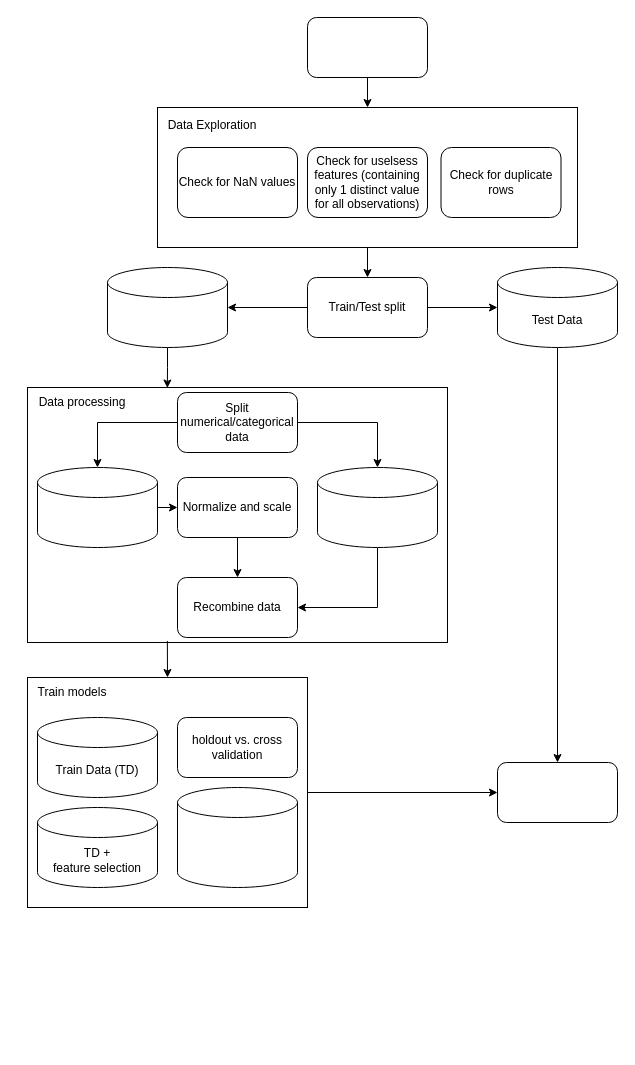
Some shapes in this 635 by 1065 pixel diagram are drawn without their labels. The shapes that lost their labels are listed below. From the top down, each one's box as (x1, y1, x2, y2) in pixels, then its label:
(306, 16, 428, 78): Load dataset
(106, 266, 228, 348): Train Data
(36, 466, 158, 548): Numerical
(316, 466, 438, 548): Categorical
(496, 762, 618, 822): Asses performance on unknown data
(176, 786, 298, 888): TD + feature selection + hyperparameter optimization
